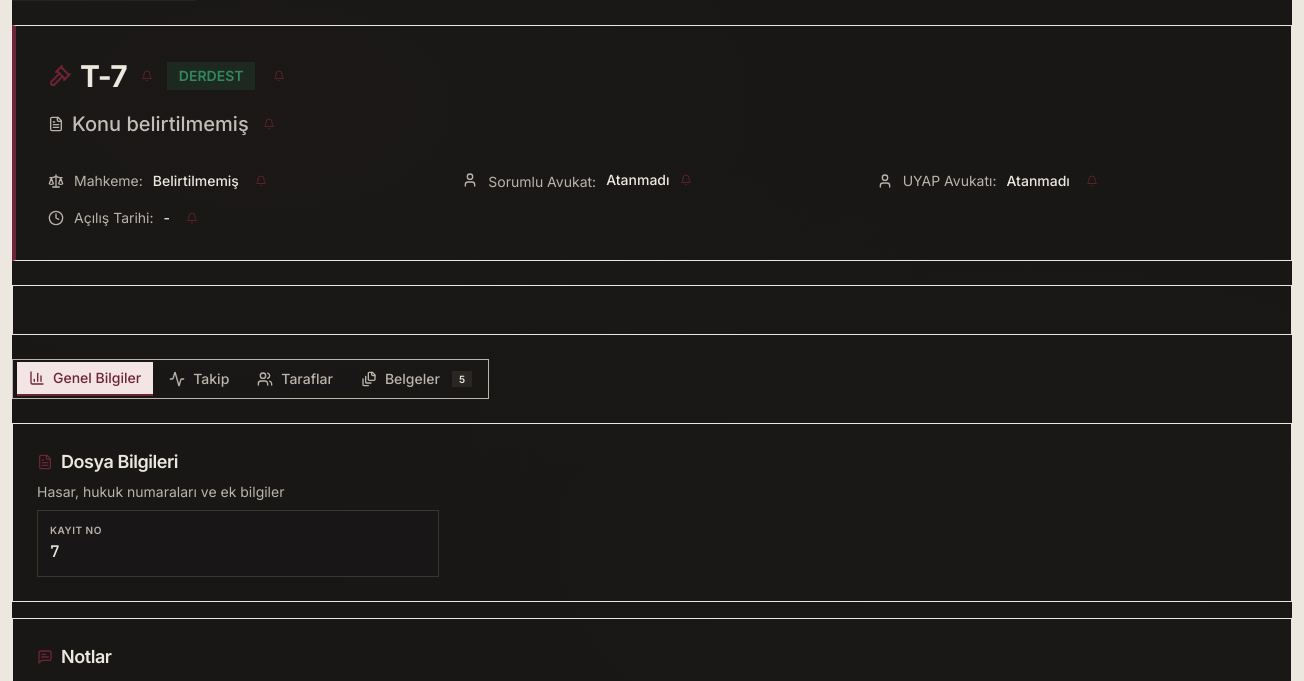
it: CaseDetails — Word yolu (G285) › Sürümler → SurumPaneli (liste surumler'den)
The width and height of the screenshot is (1304, 681).
Press the mouse on the tab "Belgeler 5" at (416, 379), box 349,363 -> 484,395
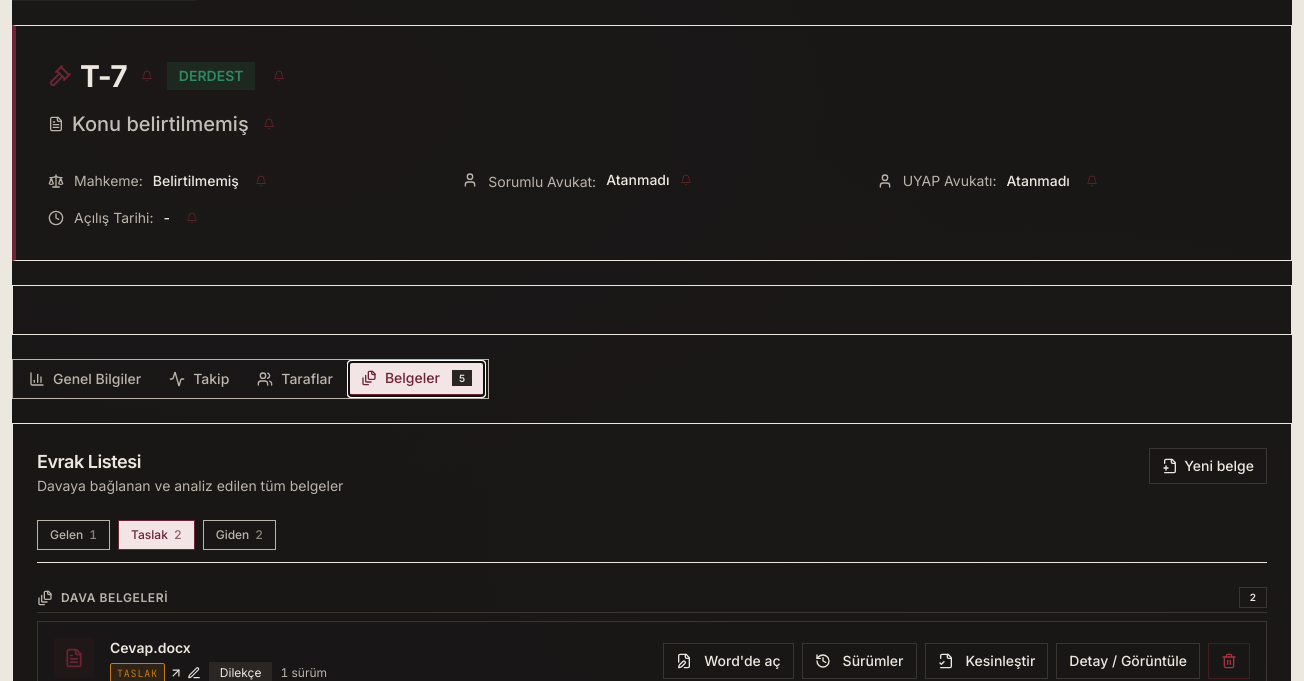
Click the button "Sürümler" at (859, 661), box 802,643 -> 916,679
(page scrolled)
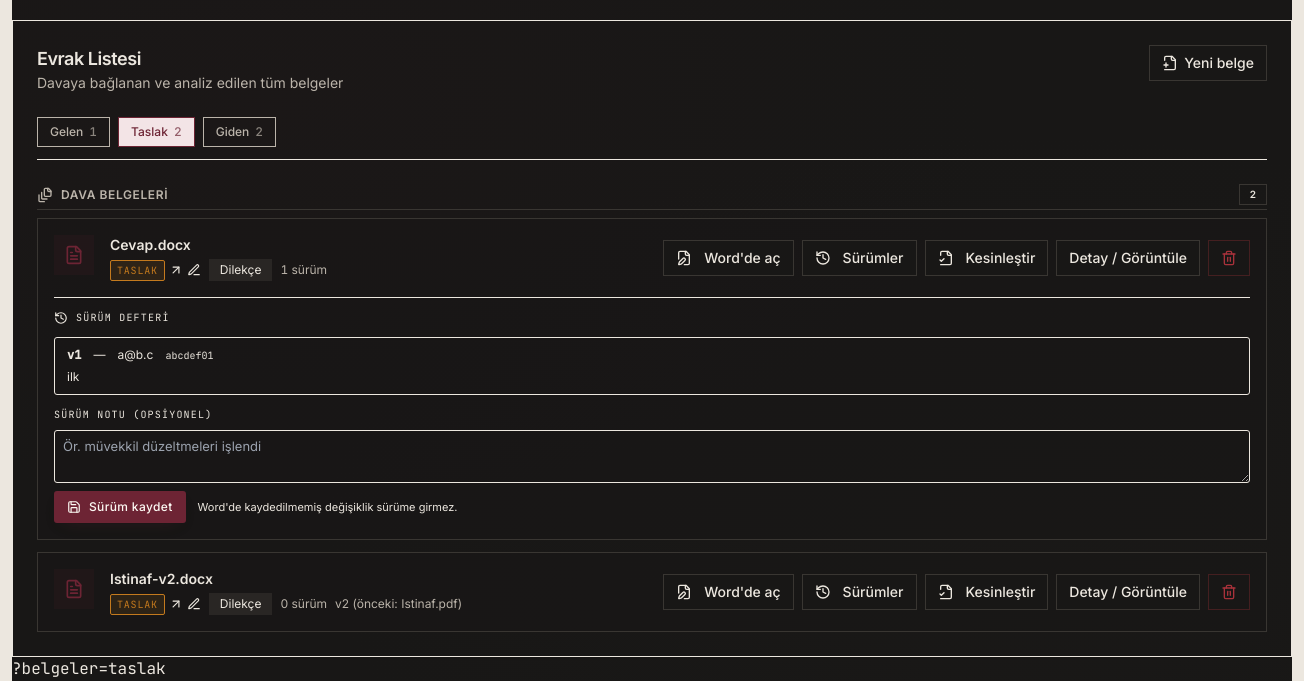
Expected: the list with test id "surum-listesi" shows "ilk", 67,369 -> 79,384
